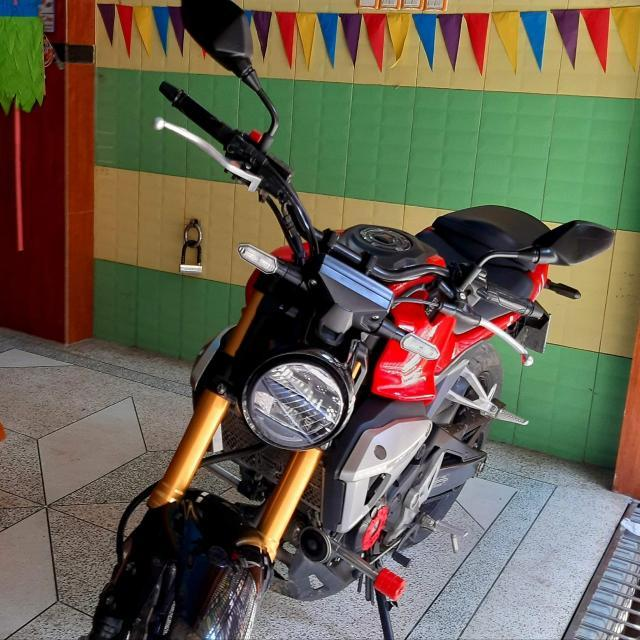Motorbike: (95, 1, 623, 640)
